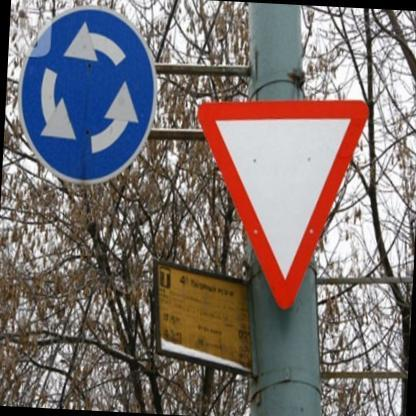road_sign: (197, 100, 370, 312), (19, 7, 159, 186)
